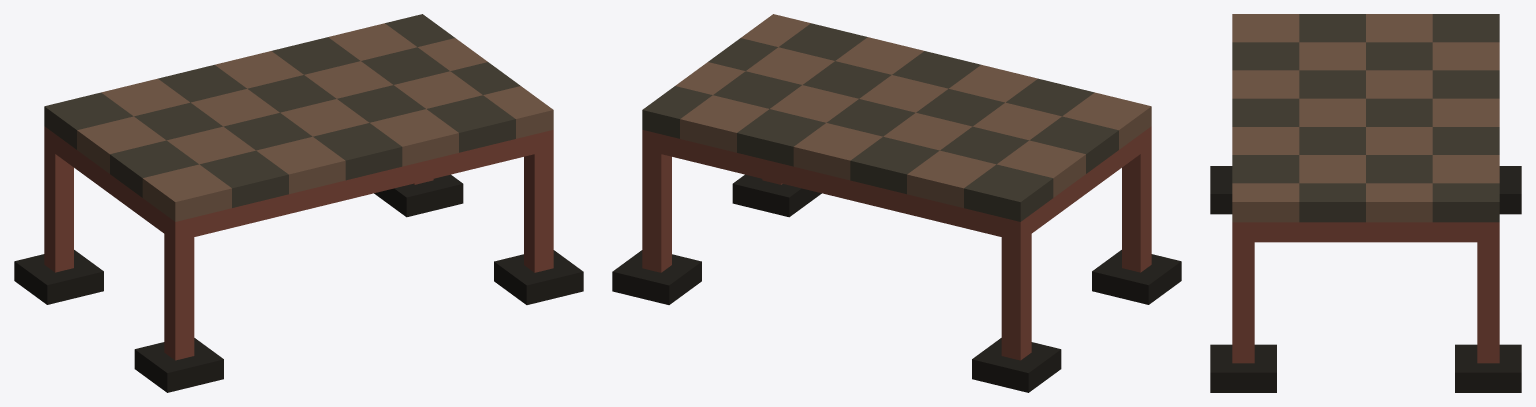
File: Medieval Assets-13-Decoration - Table - Checker Variant3.obj
3 views of the same model, side by side, from view 1: azimuth 30°, elevation 25°; view 2: azimuth 150°, elevation 25°; view 3: azimuth 270°, elevation 25° (orthographic).
Visible parts, largest first — view 1: Decoration - Table - Checker Variant3; view 2: Decoration - Table - Checker Variant3; view 3: Decoration - Table - Checker Variant3.
Boxes of the visible parts, x1,y1,x2,y2 form: Decoration - Table - Checker Variant3: [14, 14, 583, 392]; Decoration - Table - Checker Variant3: [612, 14, 1181, 392]; Decoration - Table - Checker Variant3: [1210, 14, 1521, 392].
Bounding box in the file's own units: 2.2 × 0.9 × 1.4.
1 material, 1 textured.
